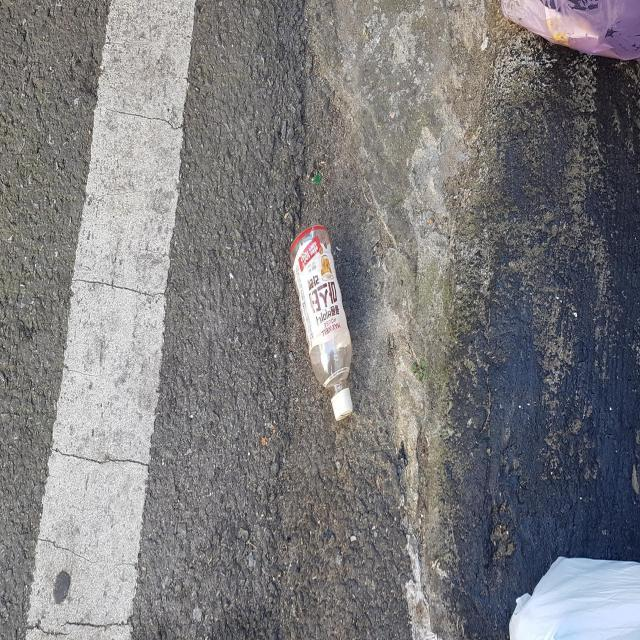plastic: (291, 223, 353, 420)
